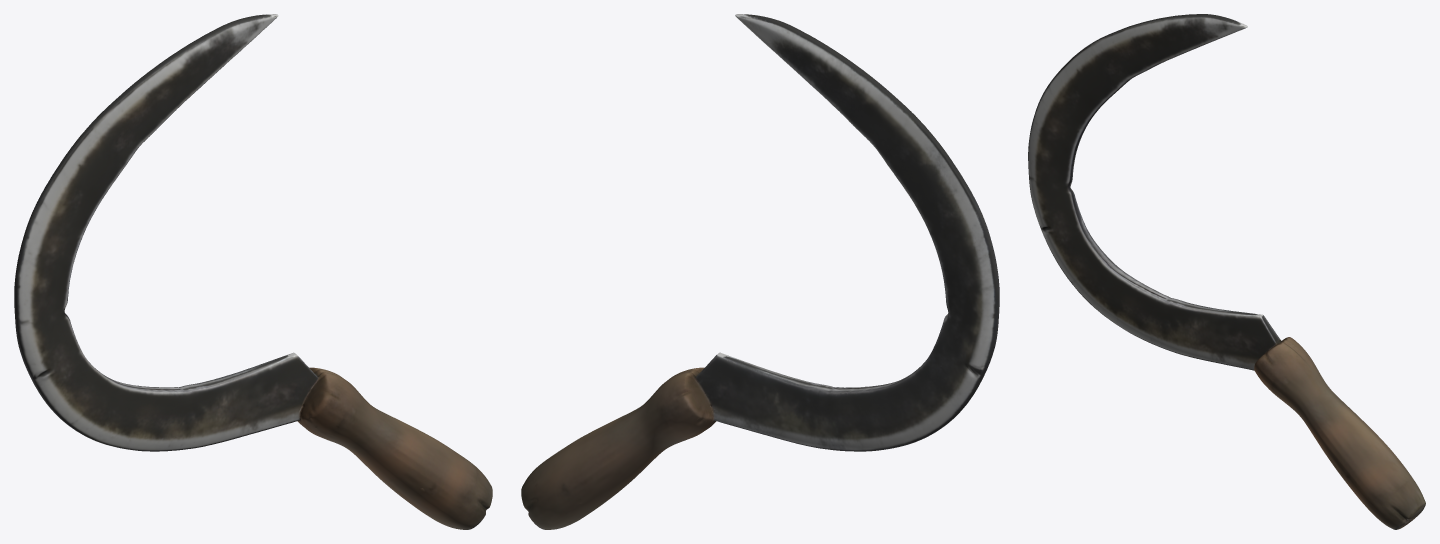
The model's file is a211_orak.glb.
3 renders of one model, left to right at view 1: azimuth 30°, elevation 25°; view 2: azimuth 150°, elevation 25°; view 3: azimuth 330°, elevation 25°, orthographic. The views are drawn at different scales.
Bounding box in the file's own units: 1.68 × 1.9 × 0.2178.
Materials: 1 (1 with a texture image).
